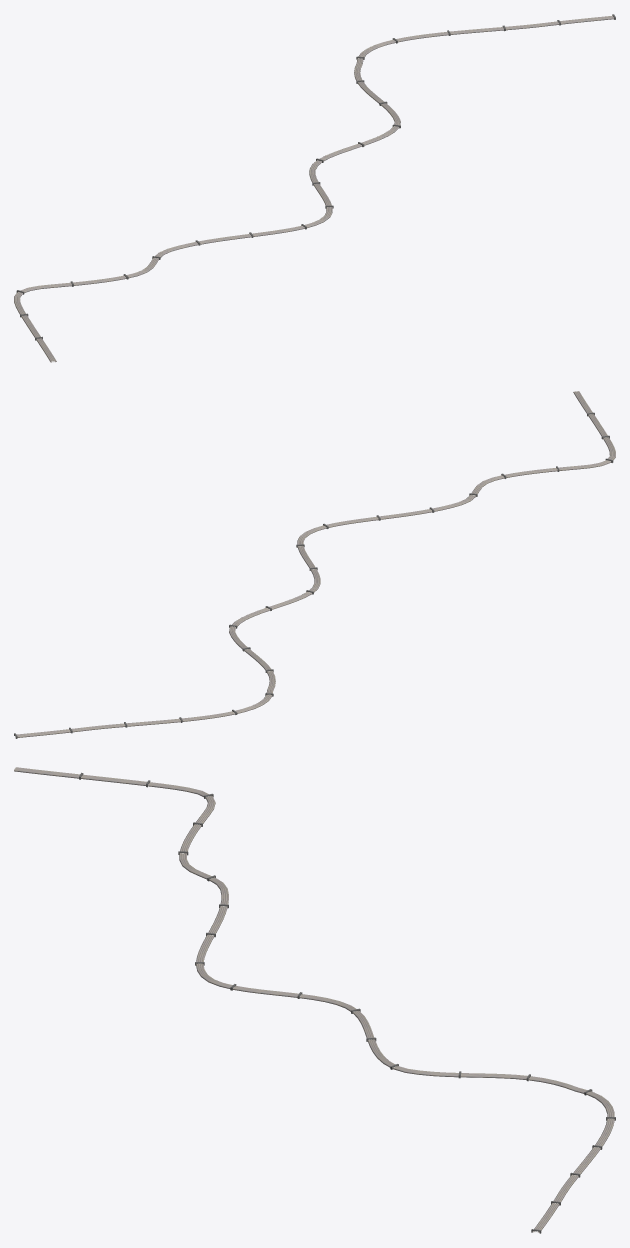
The model's file is Test_Rope2.fbx.
3 renders of one model, top to bottom at view 1: azimuth 30°, elevation 25°; view 2: azimuth 210°, elevation 25°; view 3: azimuth 270°, elevation 25°, orthographic. The views are drawn at different scales.
Parts seen in each view (by area): view 1: Mat_Tile_Color_07 1, Mat_Tile_Color_07 2, Mat_Tile_Color_07 3; view 2: Mat_Tile_Color_07 1, Mat_Tile_Color_07 2, Mat_Tile_Color_07 3; view 3: Mat_Tile_Color_07 1, Mat_Tile_Color_07 2, Mat_Tile_Color_07 3.
Part boxes in pixels (x1,y1,x2,y2): Mat_Tile_Color_07 1: (14, 15, 613, 362); Mat_Tile_Color_07 2: (18, 17, 613, 362); Mat_Tile_Color_07 3: (15, 16, 613, 361); Mat_Tile_Color_07 1: (17, 391, 615, 737); Mat_Tile_Color_07 2: (16, 391, 611, 734); Mat_Tile_Color_07 3: (17, 391, 614, 736); Mat_Tile_Color_07 1: (14, 767, 614, 1232); Mat_Tile_Color_07 2: (14, 769, 608, 1232); Mat_Tile_Color_07 3: (15, 768, 612, 1229).
Bounding box in the file's own units: 64.24 × 0.1815 × 35.14.
Materials: 5 (5 with a texture image).
